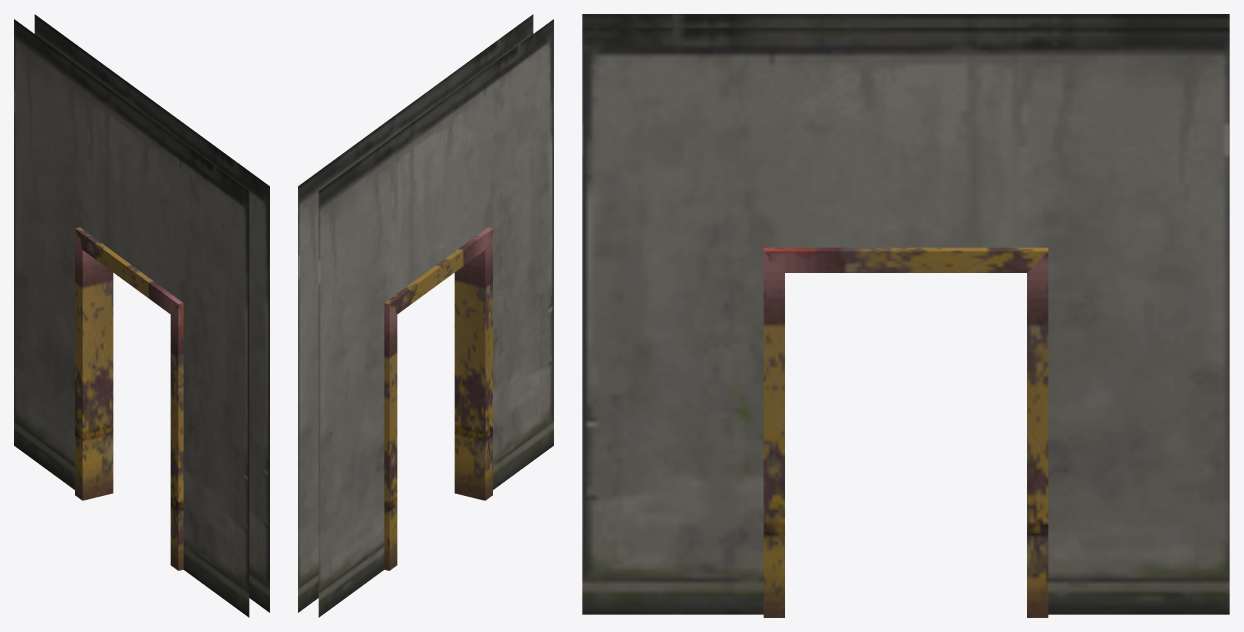
Rendered from SM_WALL_DOOR_02.fbx.
3 renders of one model, left to right at view 1: azimuth 30°, elevation 25°; view 2: azimuth 150°, elevation 25°; view 3: azimuth 270°, elevation 25°, orthographic. The views are drawn at different scales.
Parts seen in each view (by area): view 1: SM_WALL_DOOR_02; view 2: SM_WALL_DOOR_02; view 3: SM_WALL_DOOR_02.
Boxes of the visible parts, <box> form: SM_WALL_DOOR_02: <box>14,14,269,617</box>; SM_WALL_DOOR_02: <box>298,14,553,617</box>; SM_WALL_DOOR_02: <box>582,14,1229,617</box>.
Bounding box in the file's own units: 0.3 × 4 × 4.
